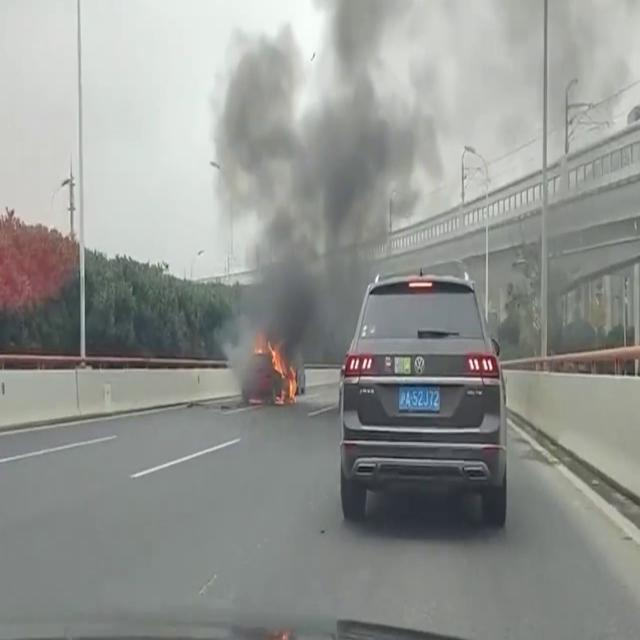single accident: (233, 313, 286, 412)
